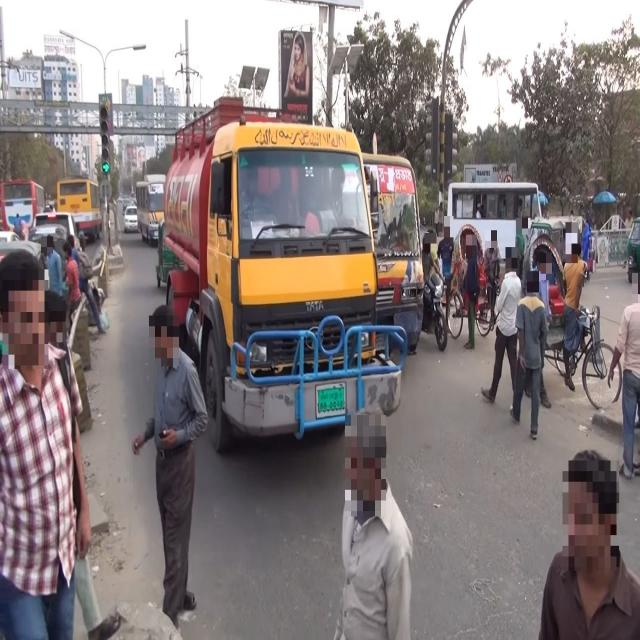bus: (366, 134, 428, 344), (449, 176, 549, 262), (54, 166, 102, 244), (134, 160, 166, 250)
car: (121, 186, 137, 244)
motorbike: (423, 258, 453, 352)
truck: (160, 90, 381, 450)
